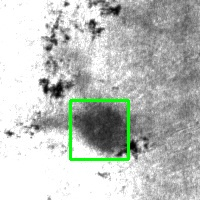patches: (70, 100, 128, 159)
